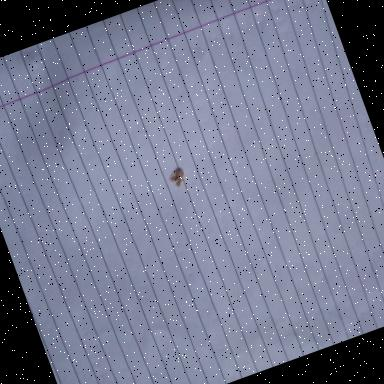pbw: (166, 167, 190, 190)
